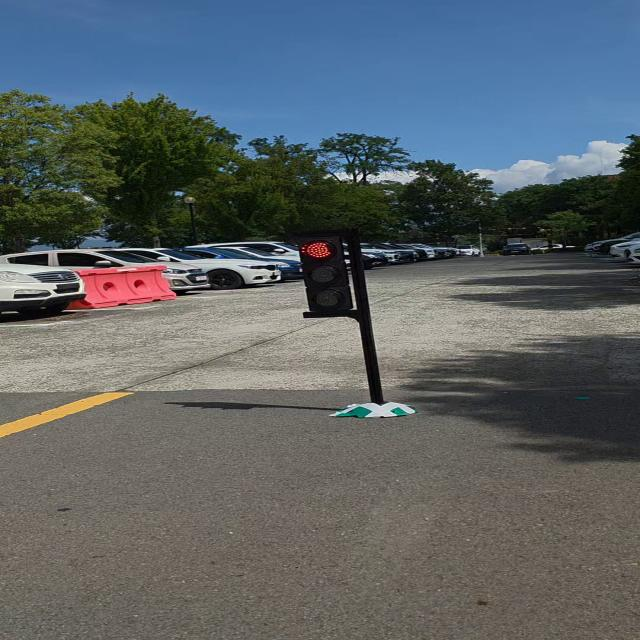red: (290, 232, 360, 322)
